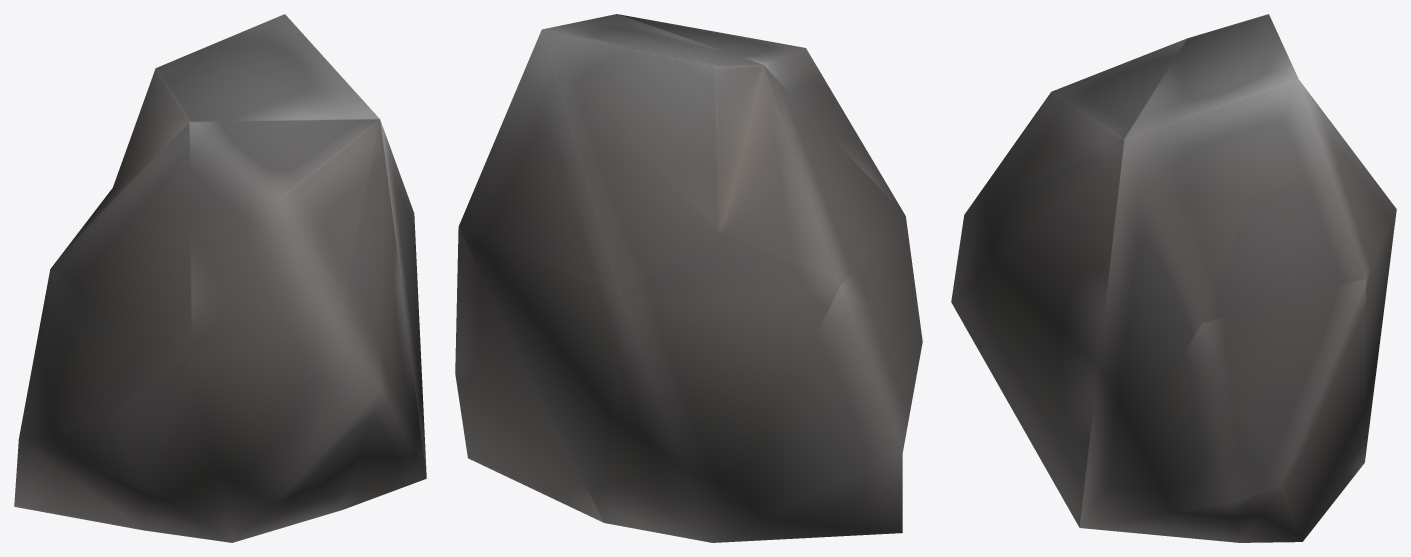
Rendered from Rock_01.gltf.
The picture shows the model from 3 angles, left to right: view 1: azimuth 30°, elevation 25°; view 2: azimuth 150°, elevation 25°; view 3: azimuth 270°, elevation 25°; orthographic projection. The views are drawn at different scales.
Visible parts, largest first — view 1: Rock_1; view 2: Rock_1; view 3: Rock_1.
Part boxes in pixels (x1,y1,x2,y2): Rock_1: [14, 14, 426, 542]; Rock_1: [455, 14, 922, 542]; Rock_1: [951, 14, 1396, 542].
Size of the model in its own units: 4.89 by 4.66 by 4.38.
Materials: 1 (1 with a texture image).
